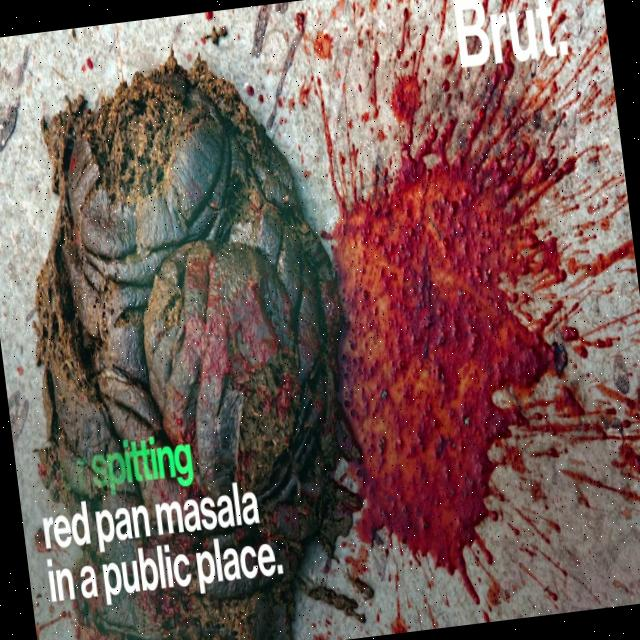spit: (354, 151, 640, 568)
